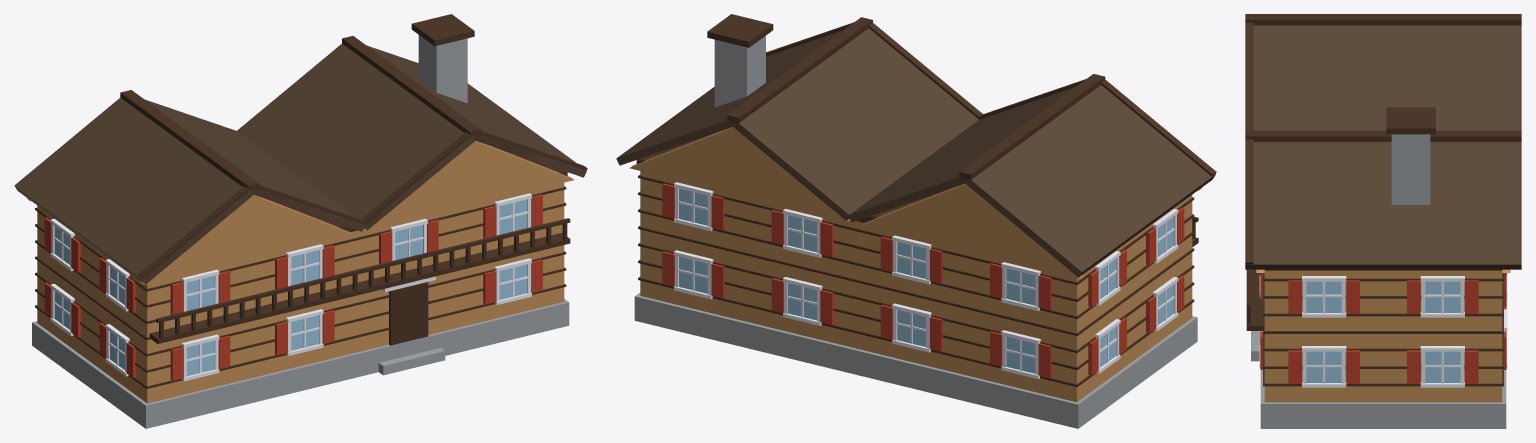
Rendered from house-2x1-2f-third-chalet-a.glb.
The picture shows the model from 3 angles, left to right: view 1: azimuth 30°, elevation 25°; view 2: azimuth 150°, elevation 25°; view 3: azimuth 270°, elevation 25°; orthographic projection. The views are drawn at different scales.
Parts seen in each view (by area): view 1: house-2x1-2f-third-chalet-a; view 2: house-2x1-2f-third-chalet-a; view 3: house-2x1-2f-third-chalet-a.
Boxes of the visible parts, left/top/right/bottom form: house-2x1-2f-third-chalet-a: left=14, top=14, right=587, bottom=428; house-2x1-2f-third-chalet-a: left=616, top=14, right=1216, bottom=428; house-2x1-2f-third-chalet-a: left=1245, top=14, right=1521, bottom=428.
Bounding box in the file's own units: 2.01 × 1.12 × 1.
Materials: 1 (1 with a texture image).
